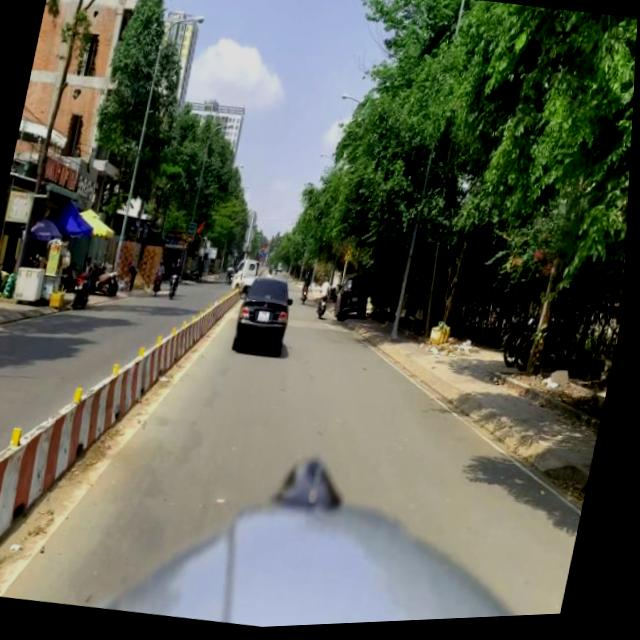Cam di nguoc chieu: (264, 248, 269, 255)
Vong chuong ngai vat sang phai: (263, 254, 268, 261)
